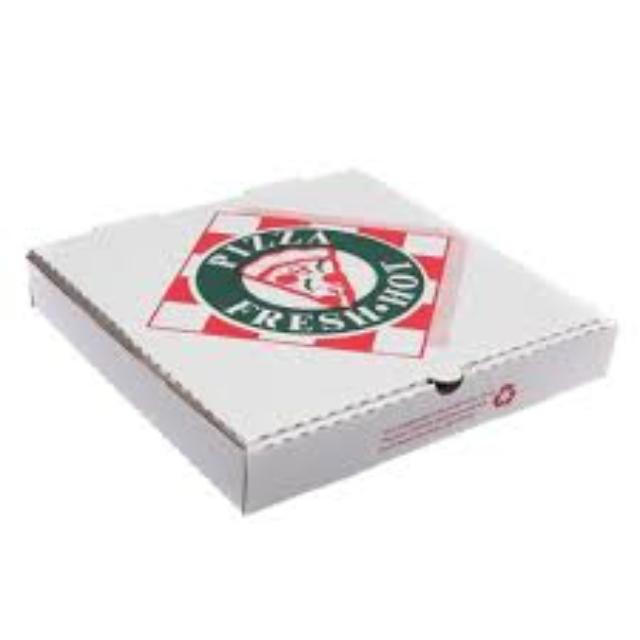cardboard paper: (26, 168, 609, 506)
